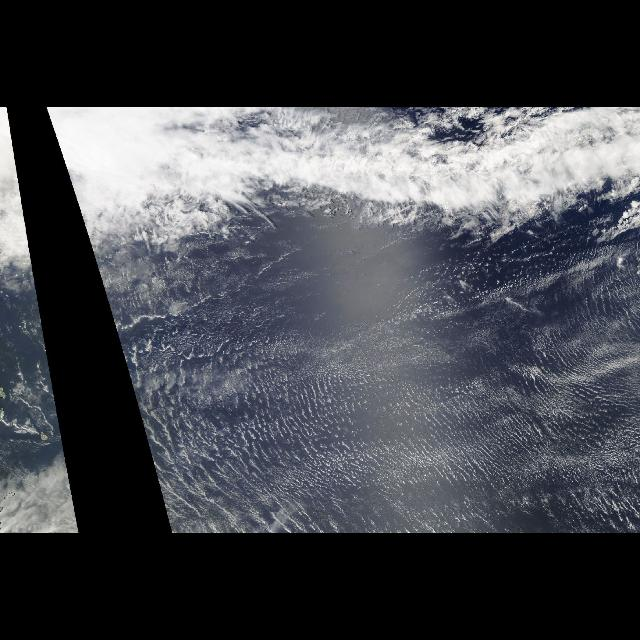Sugar: (135, 308, 623, 490)
